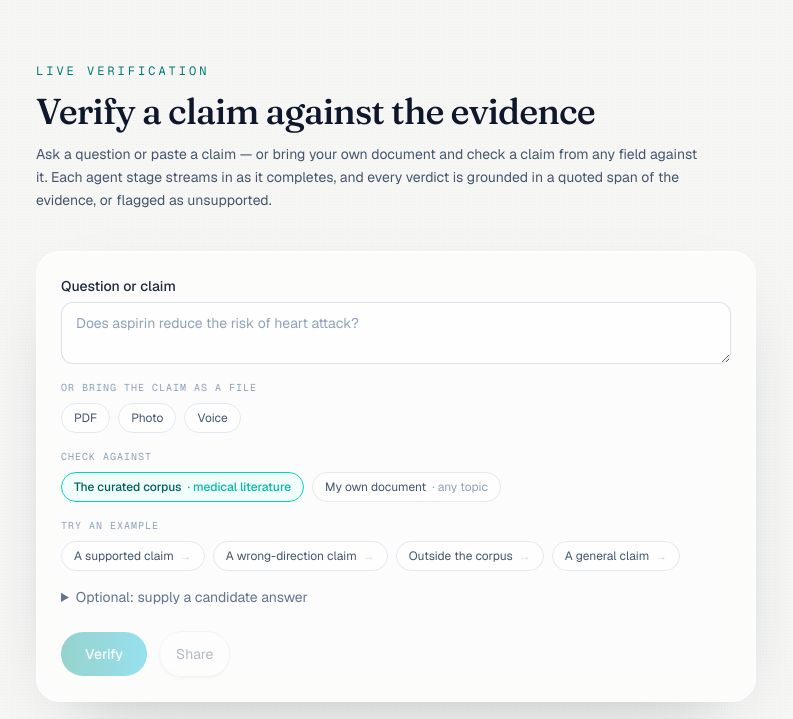
Test: fills the query and runs when an example chip is clicked
Click the button "A supported claim →".
click(133, 556)  # box [61, 541, 205, 571]
(page scrolled)
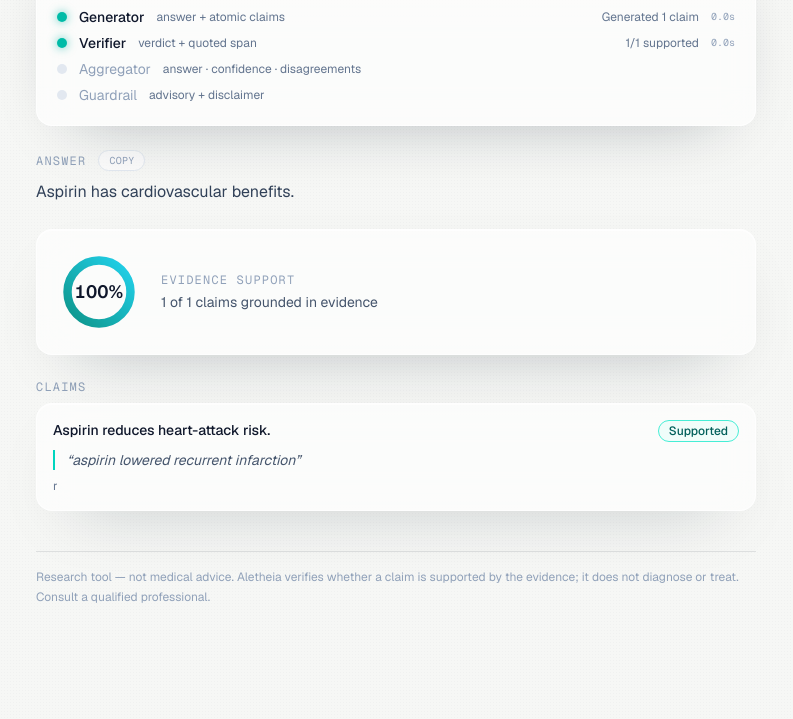
Expected: the text "Supported" is shown, [658, 420, 739, 442]
